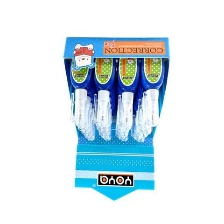book: (60, 34, 172, 201)
correction_fluid: (137, 39, 166, 127), (92, 39, 117, 129), (67, 39, 93, 125), (116, 38, 140, 129)
